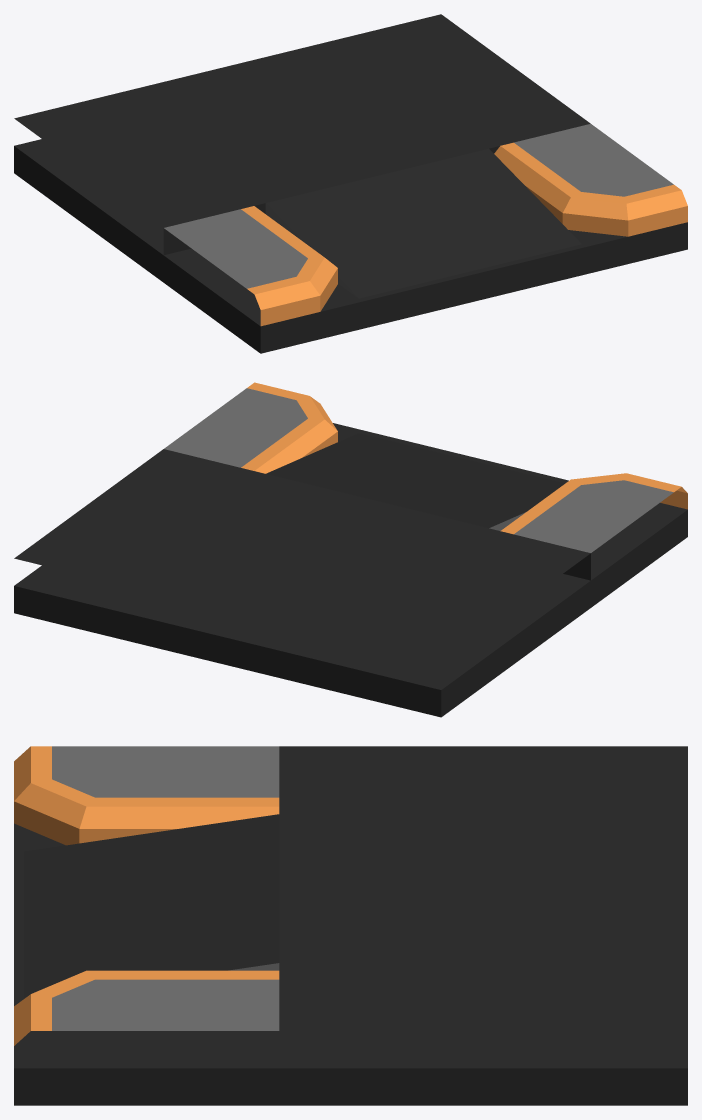
File: SideWalk_03.FBX
The picture shows the model from 3 angles, top to bottom: view 1: azimuth 30°, elevation 25°; view 2: azimuth 150°, elevation 25°; view 3: azimuth 270°, elevation 25°; orthographic projection. The views are drawn at different scales.
Visible parts, largest first — view 1: SideWalk_03; view 2: SideWalk_03; view 3: SideWalk_03.
Boxes of the visible parts, bbox=[...] form: SideWalk_03: bbox=[14, 14, 687, 353]; SideWalk_03: bbox=[14, 382, 687, 717]; SideWalk_03: bbox=[14, 746, 687, 1105].
Bounding box in the file's own units: 10 × 1.22 × 10.
